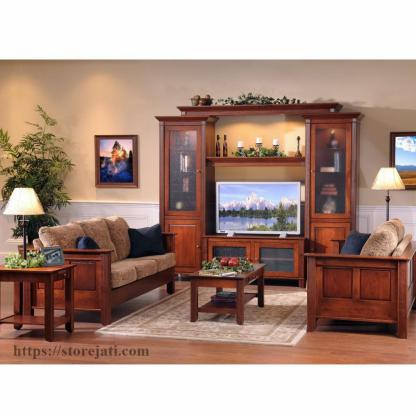lampu: (371, 167, 405, 214), (5, 187, 45, 224)
meja: (190, 259, 265, 325)
sova: (30, 222, 179, 315)
tanaman: (1, 126, 70, 188)
tv: (215, 180, 302, 235)
